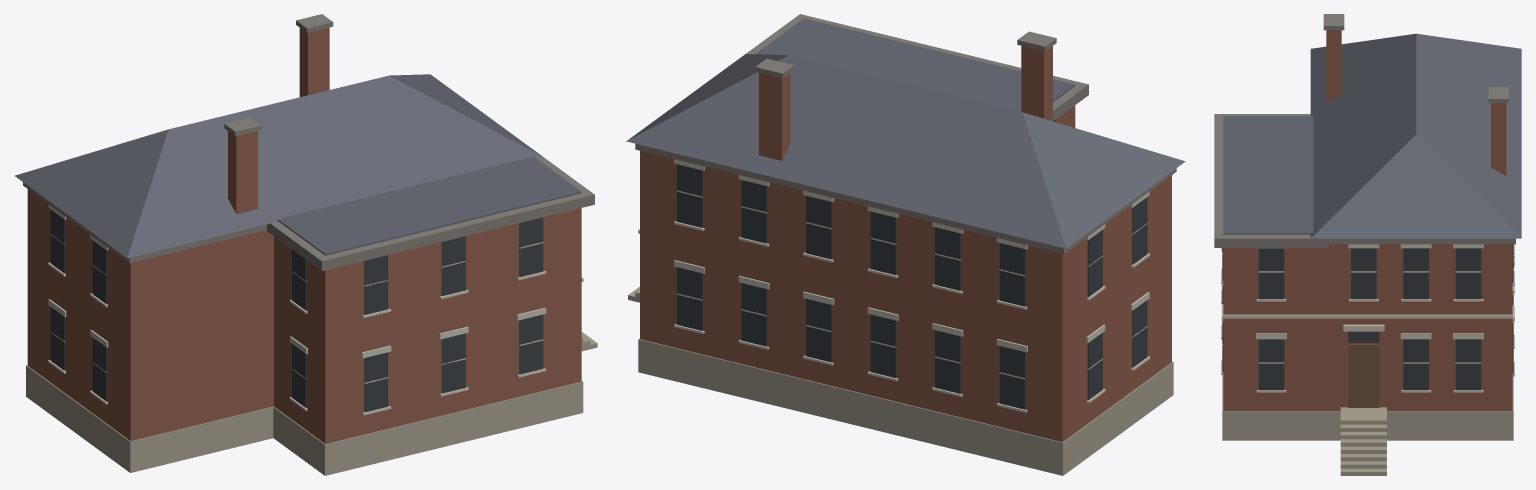
The model's file is law_house_1620_prairie__draft_1904.glb.
3 renders of one model, left to right at view 1: azimuth 30°, elevation 25°; view 2: azimuth 150°, elevation 25°; view 3: azimuth 270°, elevation 25°, orthographic. The views are drawn at different scales.
Visible parts, largest first — view 1: law_house_1620_prairie__draft_1904; view 2: law_house_1620_prairie__draft_1904; view 3: law_house_1620_prairie__draft_1904.
Boxes of the visible parts, x1,y1,x2,y2 form: law_house_1620_prairie__draft_1904: (14,14,597,475); law_house_1620_prairie__draft_1904: (626,14,1185,475); law_house_1620_prairie__draft_1904: (1214,14,1521,475).
Bounding box in the file's own units: 20.4 × 12.54 × 11.95.
